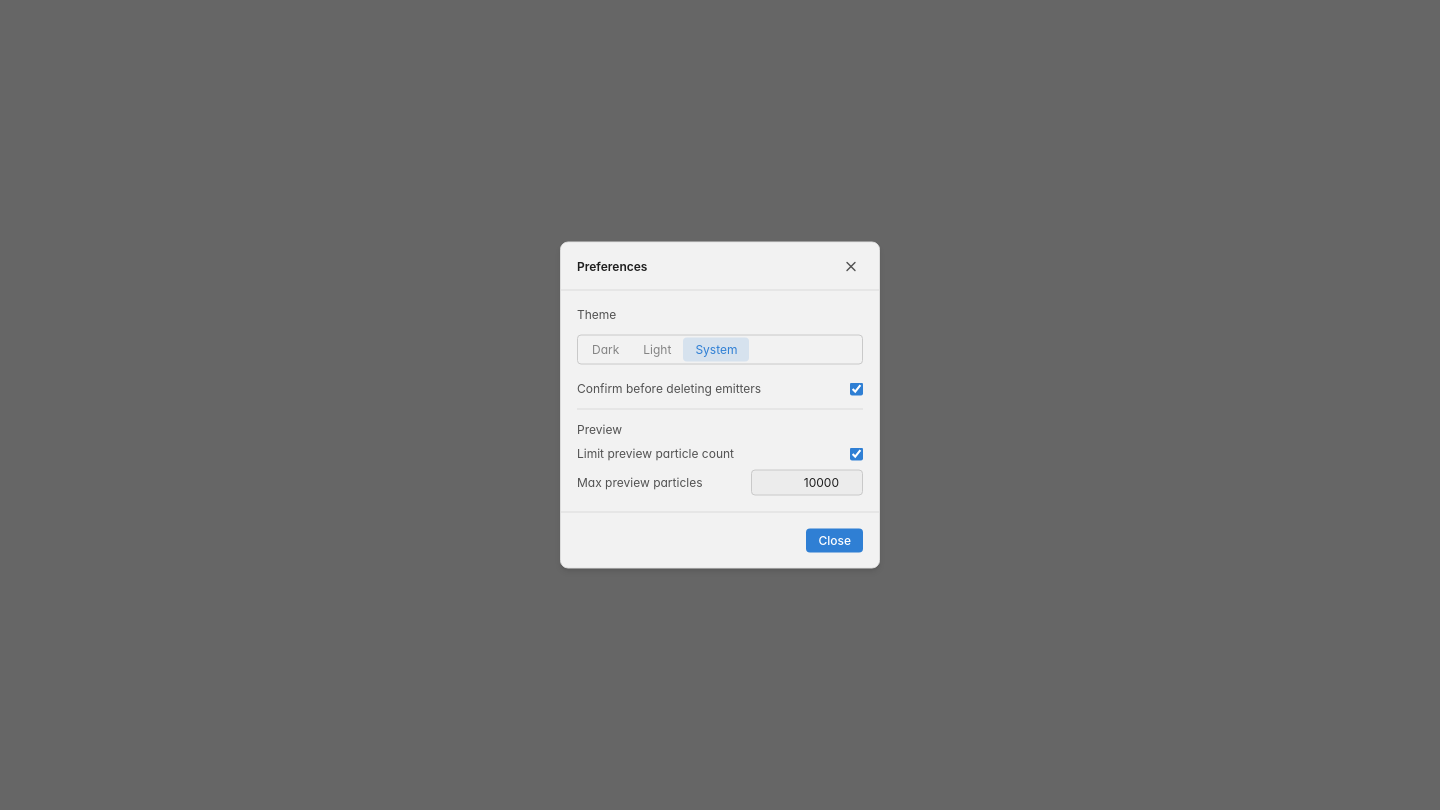
Test: PreferencesDialog › unchecking sends enabled:false, persists, greys the number, shows the warning
The image size is (1440, 810).
Click the checkbox labelled "Limit preview particle count".
click(856, 454)  # box [850,447,863,460]
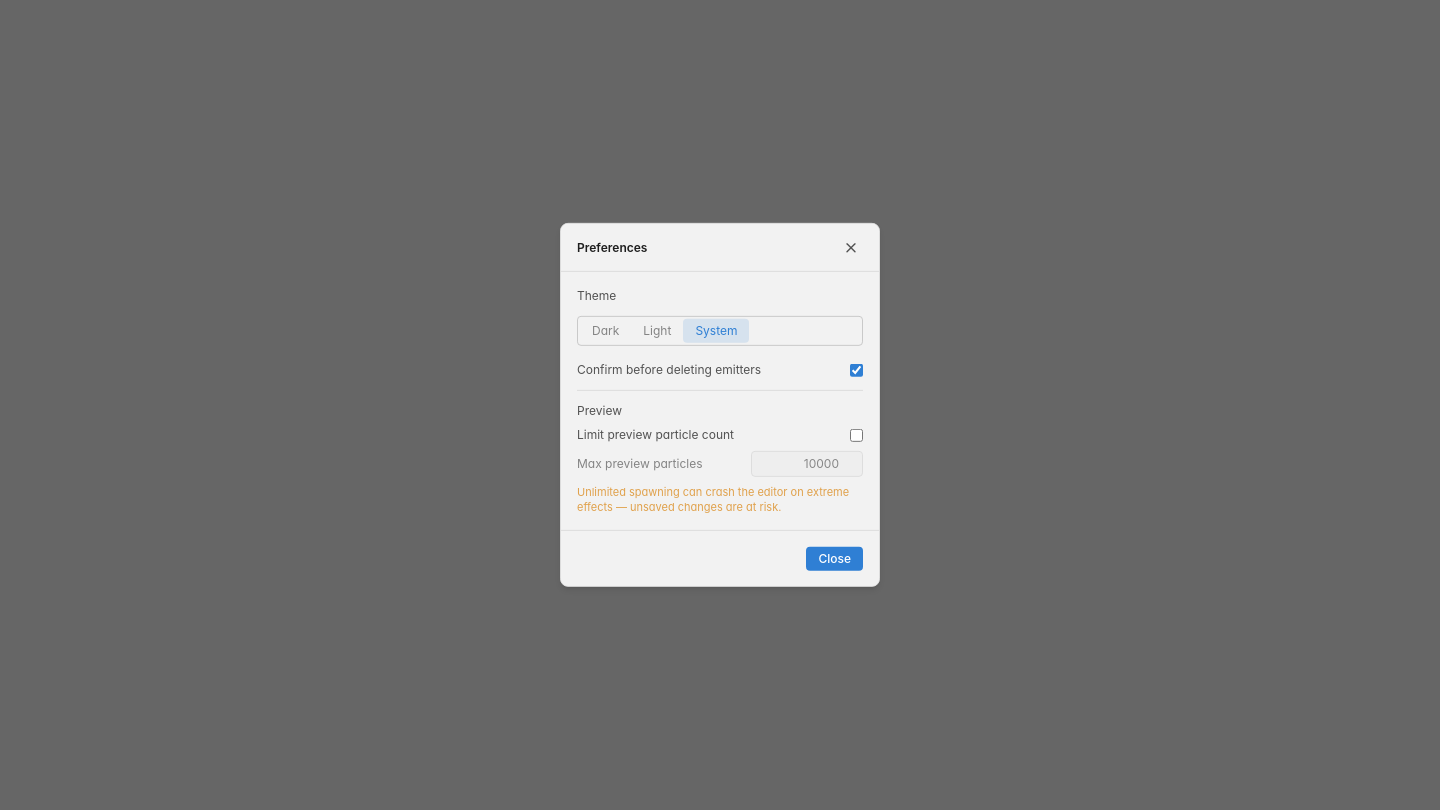
Result: the number field labelled "Max preview particles" is disabled at [751,451,863,477]
Result: the text "can crash the editor" is shown at [577,485,849,514]
